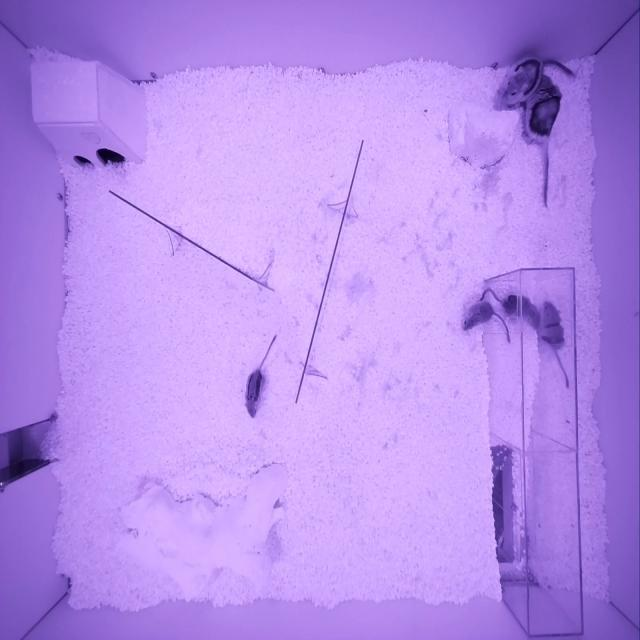adult_back: (498, 57, 544, 104)
adult_front: (526, 75, 563, 142)
pup_fluffy: (462, 301, 493, 331)
pup_h_stripe: (540, 302, 565, 350)
pup_spotted: (502, 294, 540, 330)
pup_v_stripe: (245, 370, 266, 418)
